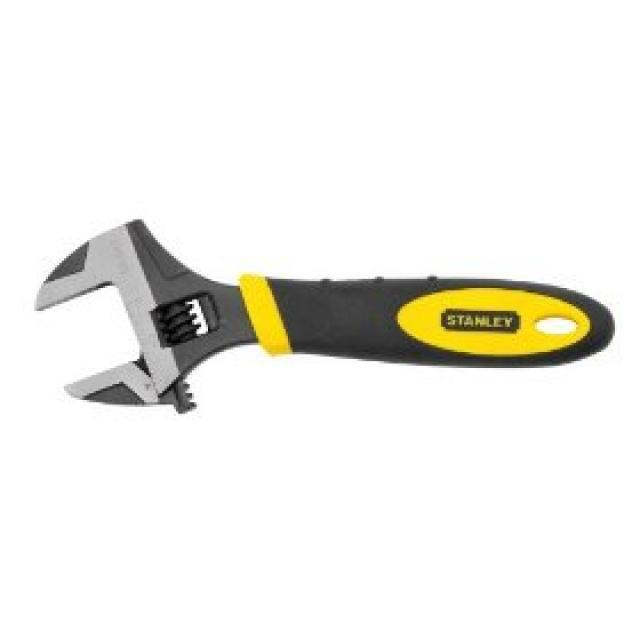wrench: (31, 211, 618, 427)
